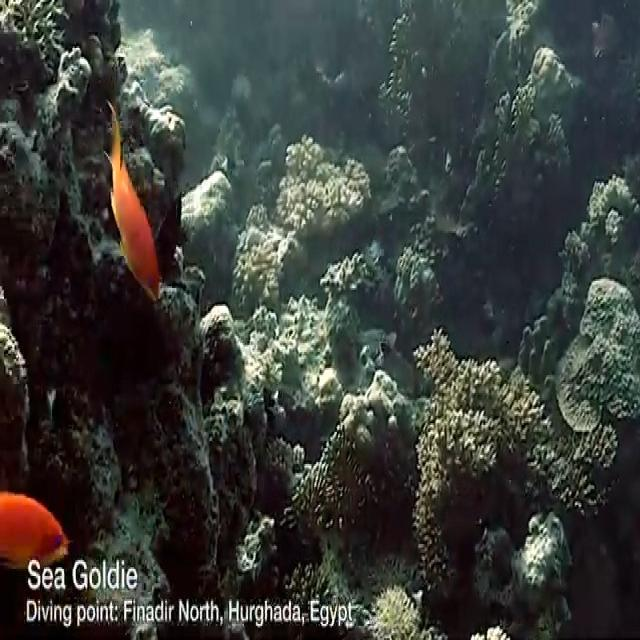Sea Goldie: (102, 98, 160, 302), (1, 490, 66, 567)
